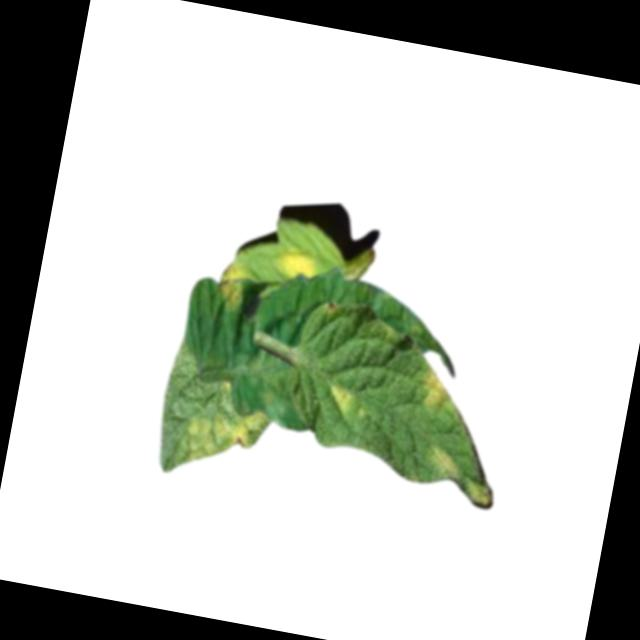Leaf_Mold: (183, 400, 267, 471), (209, 255, 250, 312), (267, 241, 321, 284), (415, 368, 459, 415), (320, 377, 360, 417), (464, 473, 497, 508), (429, 445, 460, 479)
